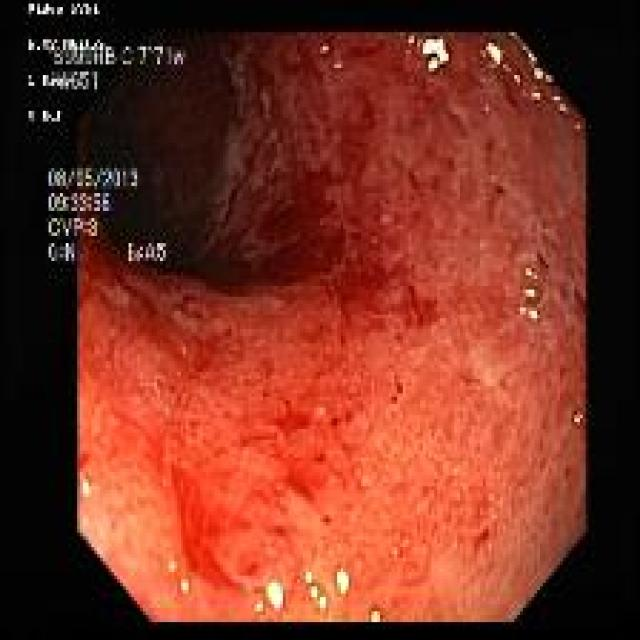ulcerative-colitis: (79, 131, 585, 620)
